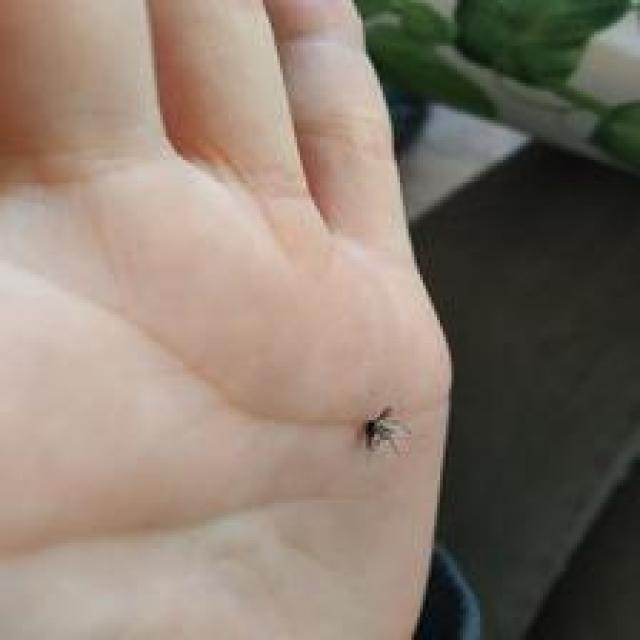Aedes albopictus: (363, 406, 411, 457)
